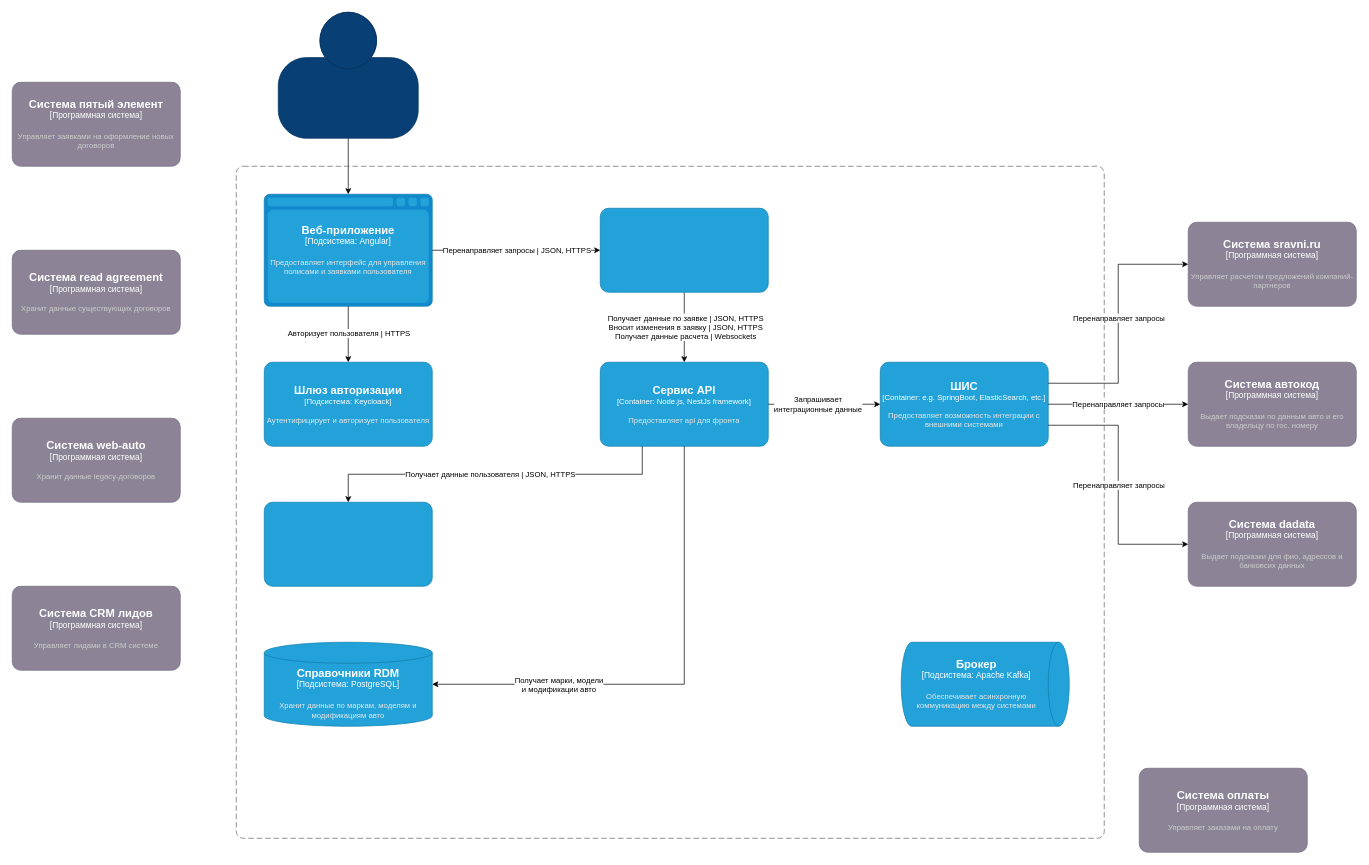
The diagram is 1369 pixels wide and 865 high, and some of its shapes have lost their labels. The box of each missing label's shape, as (x1, y1, x2, y2) in pixels:
Балансировщик соединений [Подсистема: Nginx] Балансирует нагрузку: (600, 208, 768, 292)
Интернет-магазин ОСАГО [Программная система]: (236, 166, 1104, 838)
Клиент 360 [Подсистема: Java] Хранит данные пользователя: (264, 502, 432, 586)
Покупатель [Пользователь] Оформляет полисы в интернет-магазине ОСАГО: (278, 12, 418, 138)
